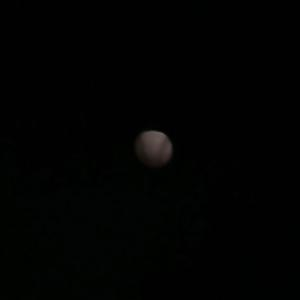ball: (133, 130, 175, 171)
